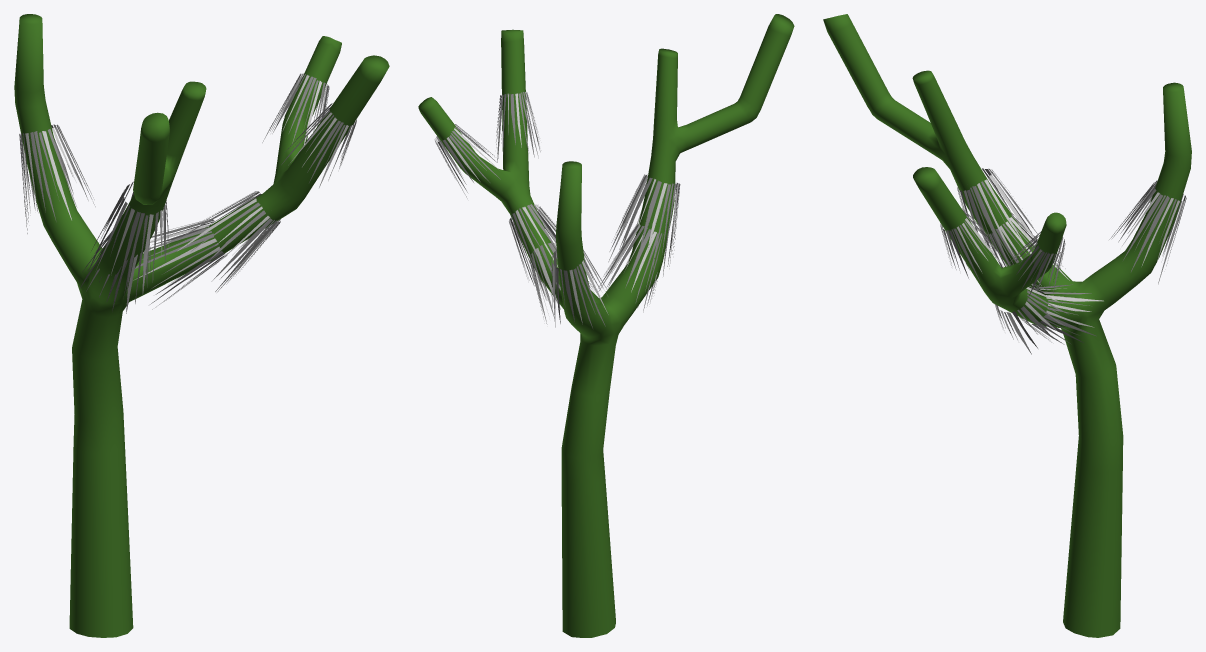
The model's file is tree2.fbx.
3 views of the same model, side by side, from view 1: azimuth 30°, elevation 25°; view 2: azimuth 150°, elevation 25°; view 3: azimuth 270°, elevation 25° (orthographic). The views are drawn at different scales.
Parts seen in each view (by area): view 1: tree2, Cylinder014, Cylinder010; view 2: tree2, Cylinder014, Cylinder010; view 3: tree2, Cylinder014, Cylinder010.
Part boxes in pixels (left/top/right/bottom): tree2: left=14, top=14, right=389, bottom=637; Cylinder014: left=19, top=73, right=329, bottom=313; Cylinder010: left=133, top=103, right=356, bottom=309; tree2: left=418, top=14, right=794, bottom=637; Cylinder014: left=434, top=124, right=680, bottom=328; Cylinder010: left=496, top=92, right=596, bottom=324; tree2: left=823, top=14, right=1191, bottom=637; Cylinder014: left=957, top=168, right=1186, bottom=296; Cylinder010: left=940, top=209, right=1103, bottom=354.
Bounding box in the file's own units: 5.57 × 6.18 × 10.66.
